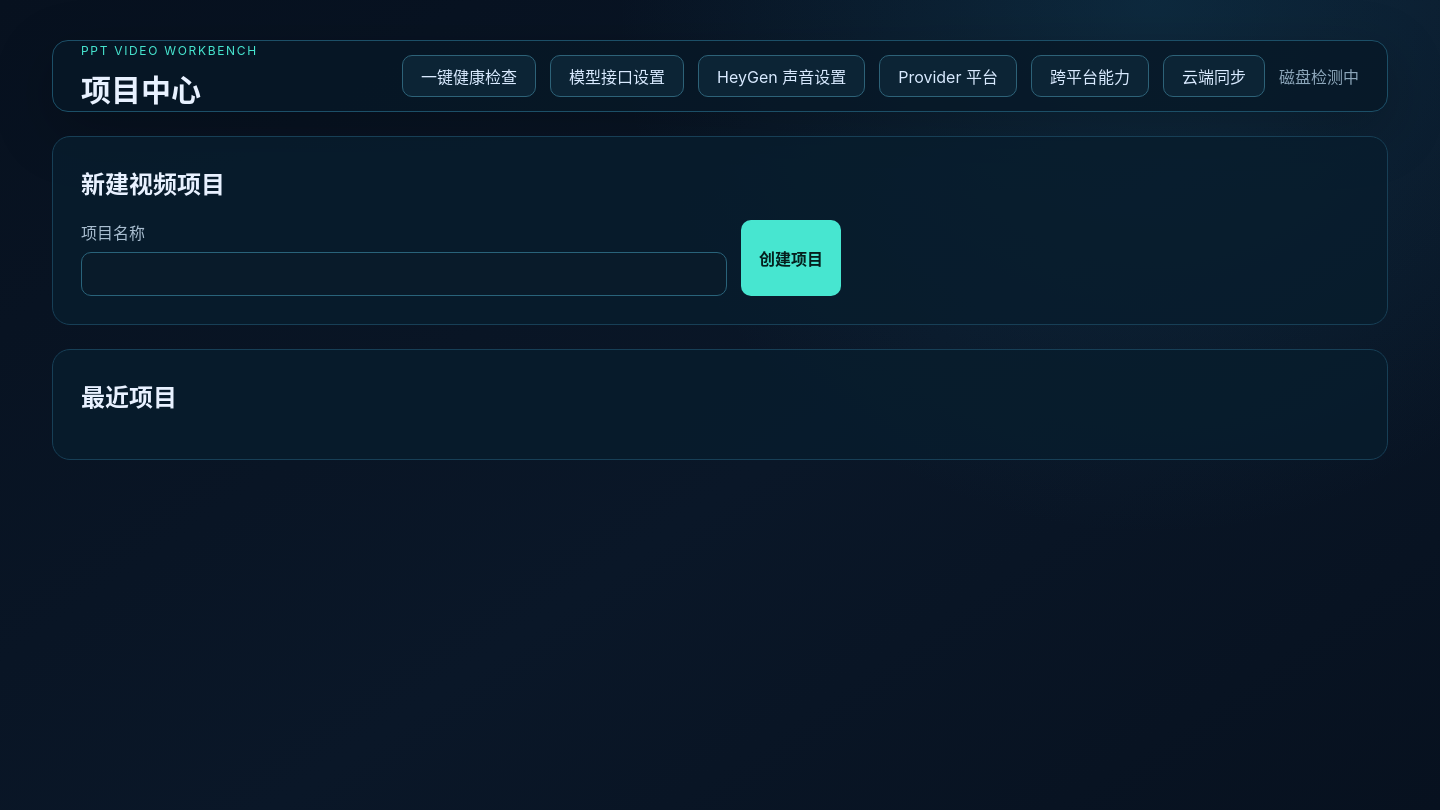
Test case: project lifecycle workbench shell › creates a project and controls its seven-step workflow
expect the heading "项目中心" is shown: met, box 81,72 -> 201,108
Type "计算机类专业介绍" into the field labelled "项目名称".
click(404, 274); type("计算机类专业介绍")  # box 81,252 -> 727,296
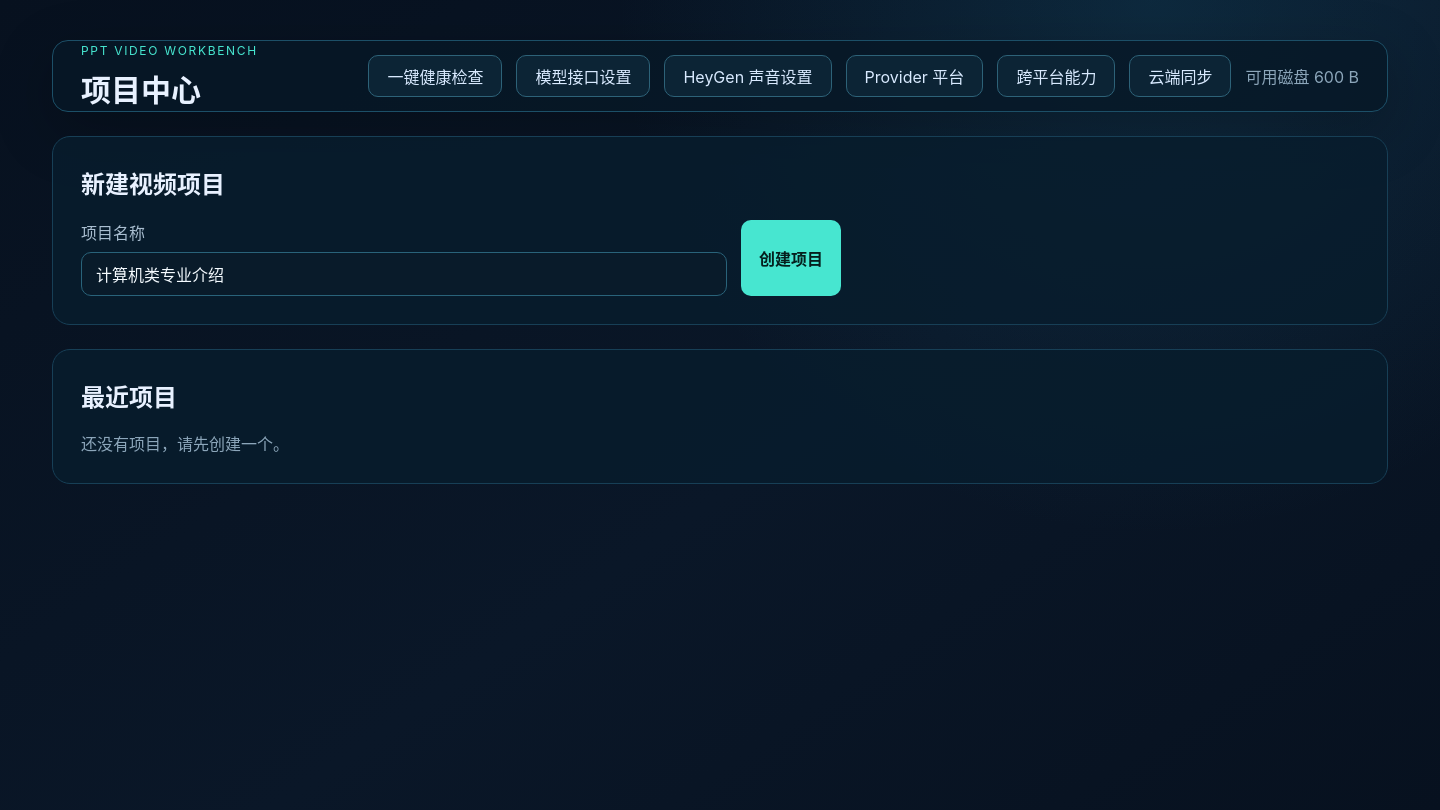
Click the button "创建项目".
click(791, 258)  # box 741,220 -> 841,296
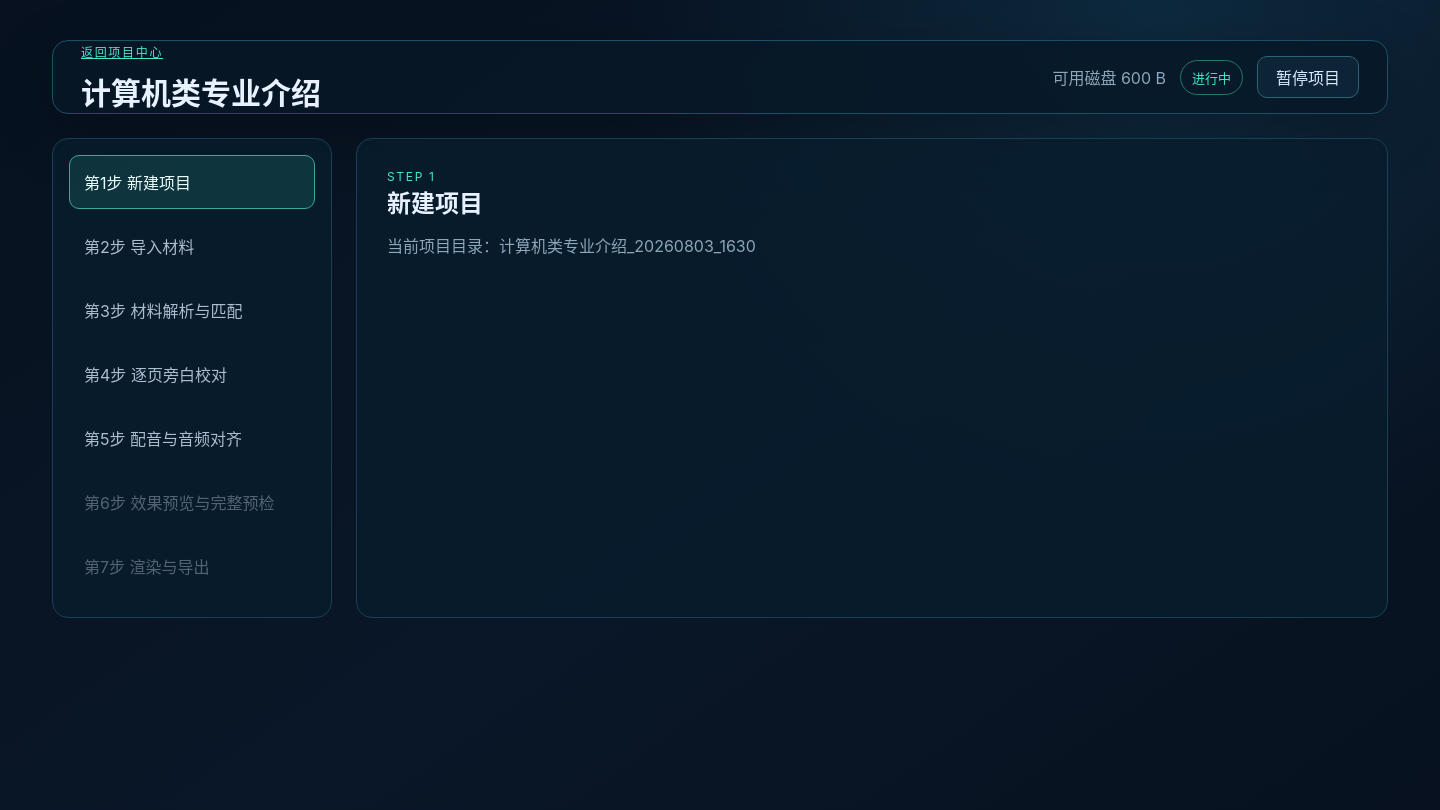
expect the text "可用磁盘 600 B" is shown: met, box 1052,65 -> 1166,89
expect the heading "计算机类专业介绍" is shown: met, box 81,69 -> 321,113
expect the number of buttons "第1步 新建项目" is 7: met
Click the button "第4步 逐页旁白校对".
click(192, 374)  # box 69,347 -> 315,401
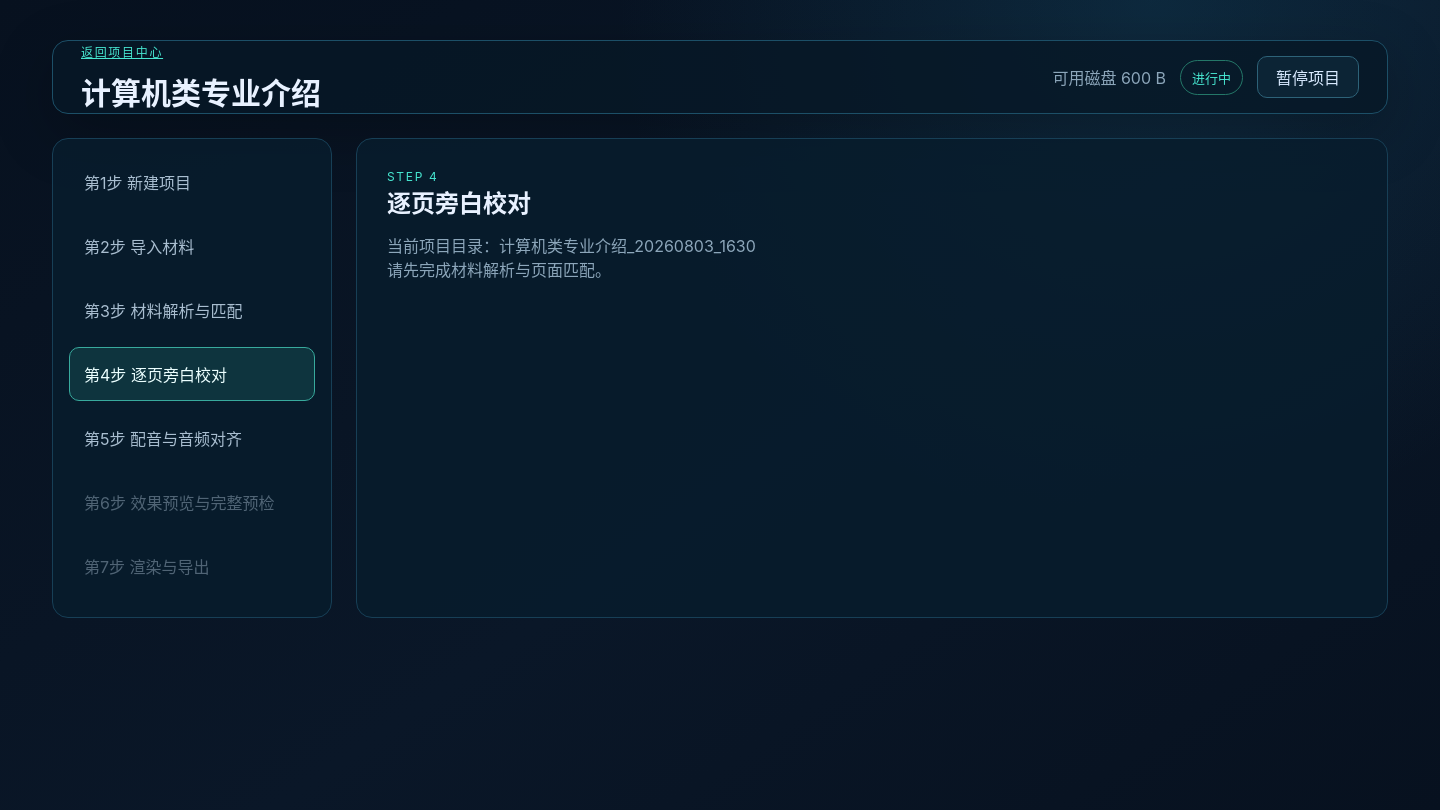
expect the button "第4步 逐页旁白校对" is marked as current: met, box 69,347 -> 315,401
Click the button "暂停项目".
click(1308, 77)  # box 1257,56 -> 1359,98
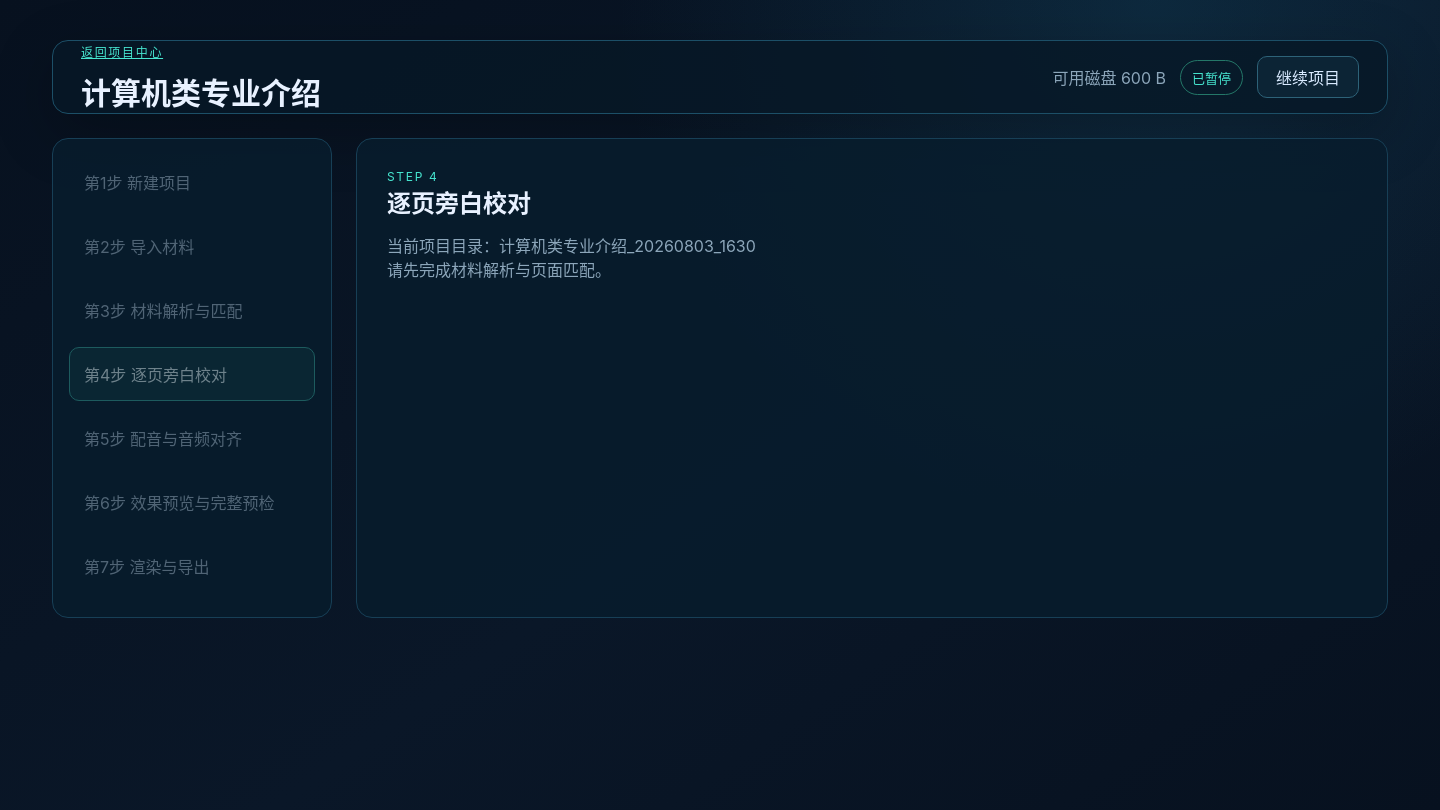
expect the button "继续项目" is shown: met, box 1257,56 -> 1359,98
